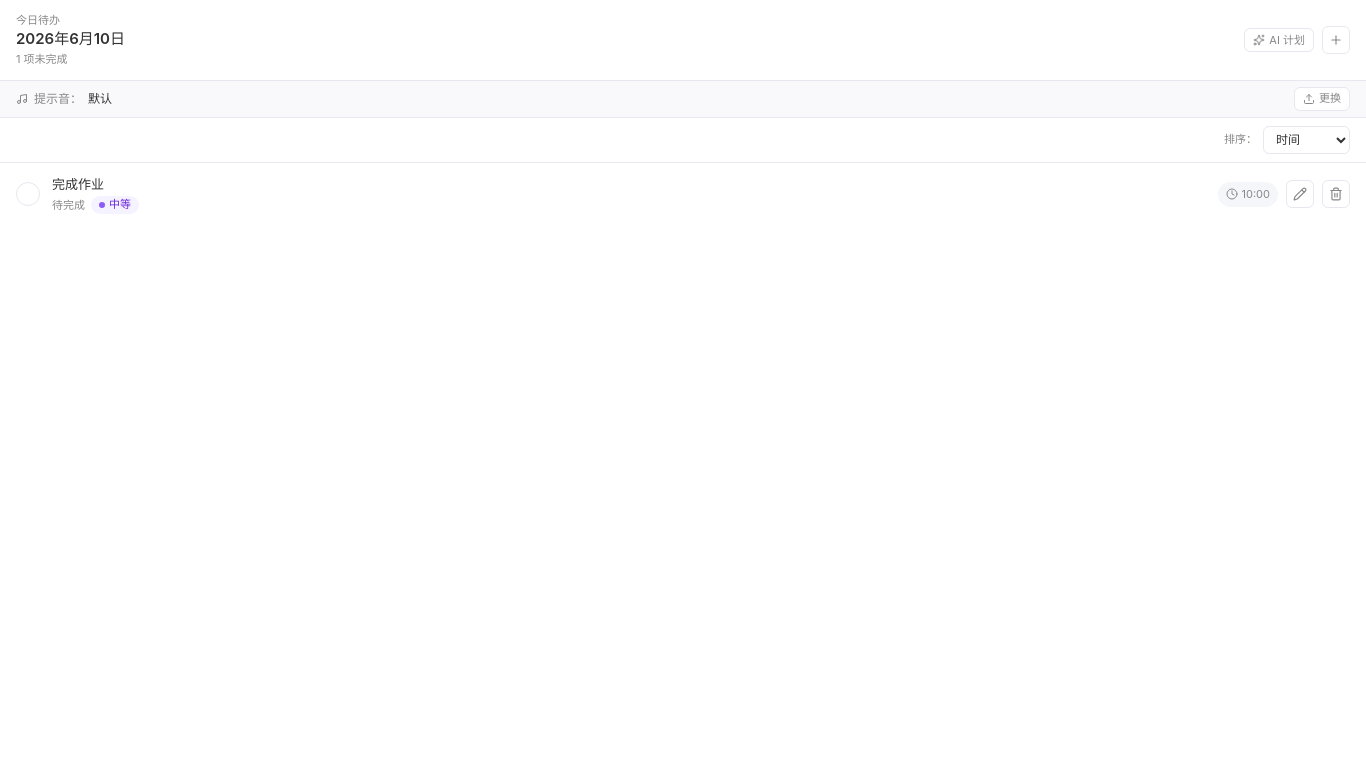
Test: TodoPanel › opens and closes the AI plan panel from the title area
Click the button "AI 计划". click: (1279, 40)
box: [1244,28,1314,52]
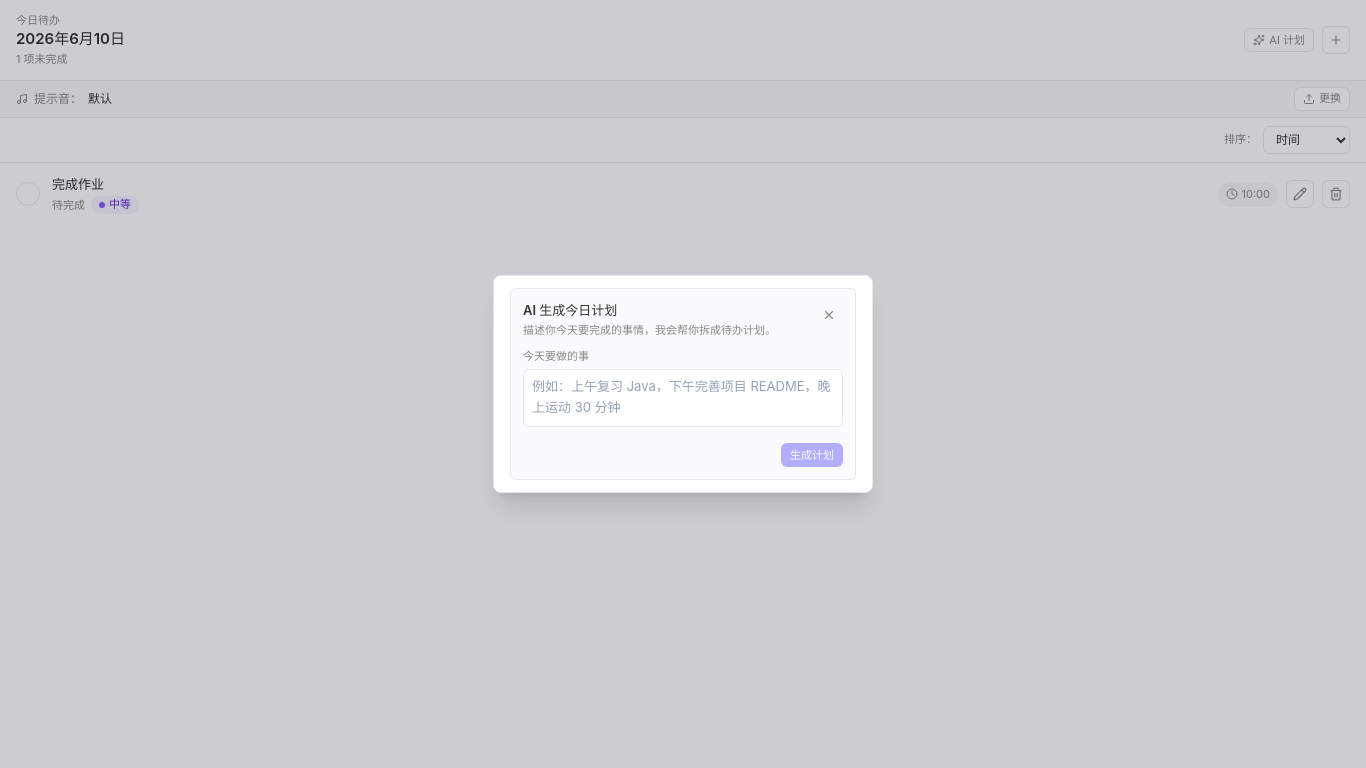
Now the heading "AI 生成今日计划" is shown, box [523,302,617,318]
Now the text box labelled "今天要做的事" is shown, box [523,369,843,427]
Click the button named "关闭 AI 计划". click: (829, 315)
box: [815,301,843,329]
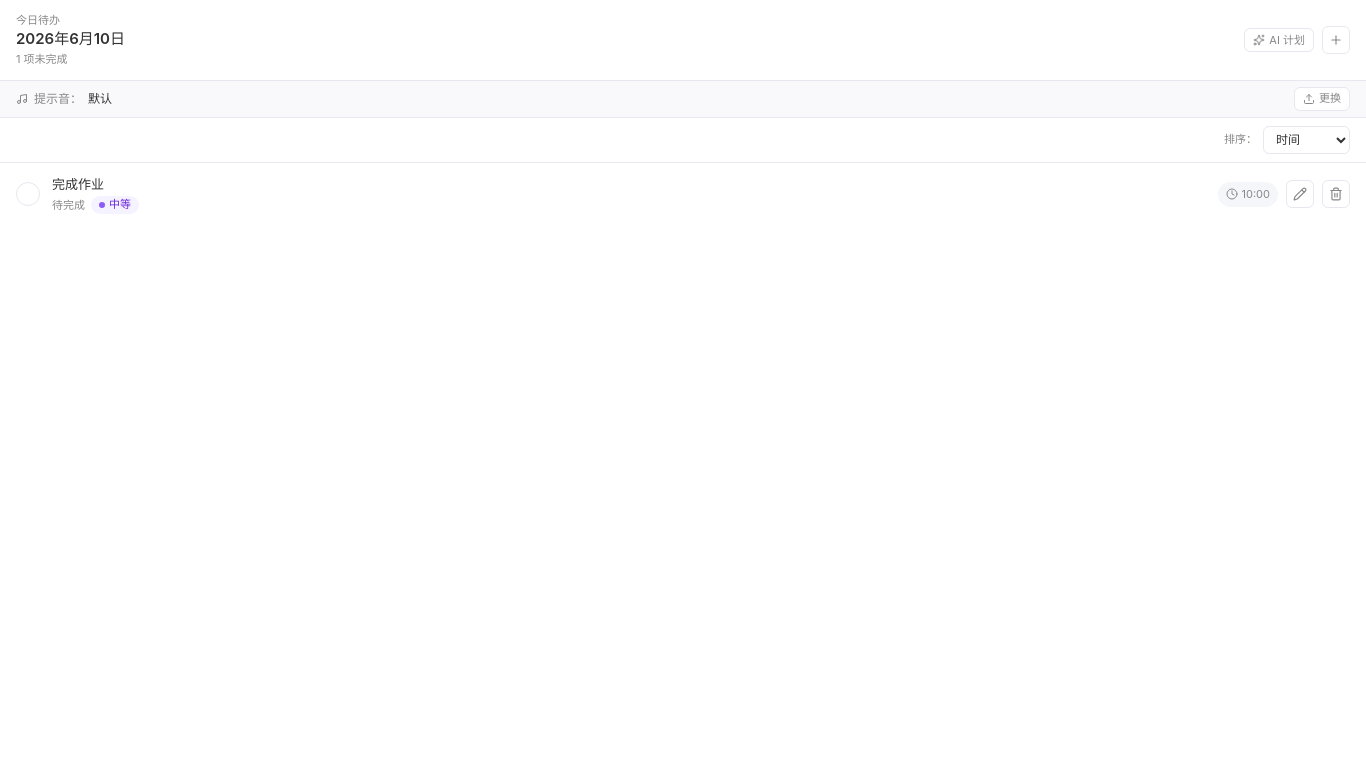
Now the heading "AI 生成今日计划" is gone
